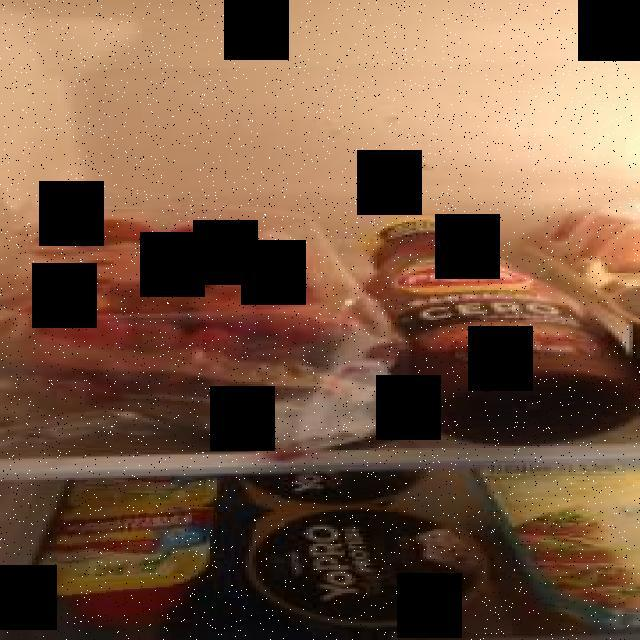yogurt: (30, 507, 215, 626), (212, 262, 294, 292)
